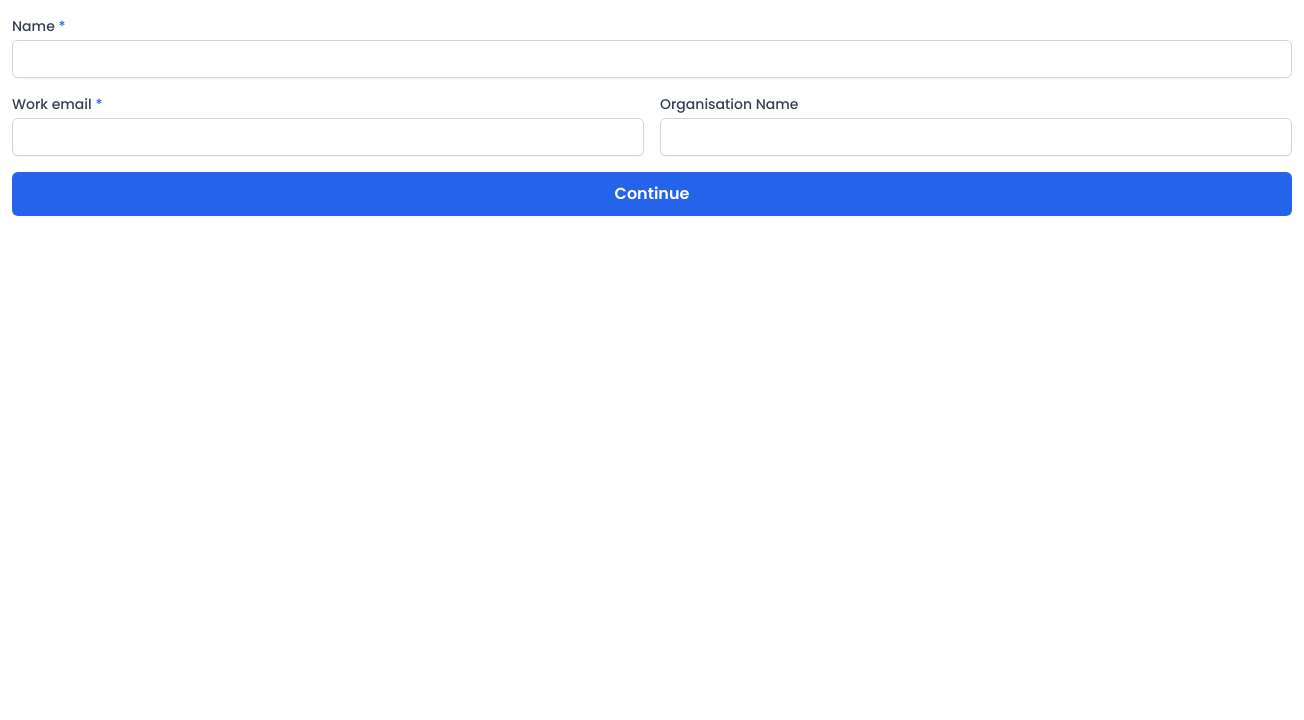
Scenario: LeadCaptureForm › progressive contact form also opens from the Continue button
Click the button "Continue": coordinates (652, 194) [12,172,1292,216]
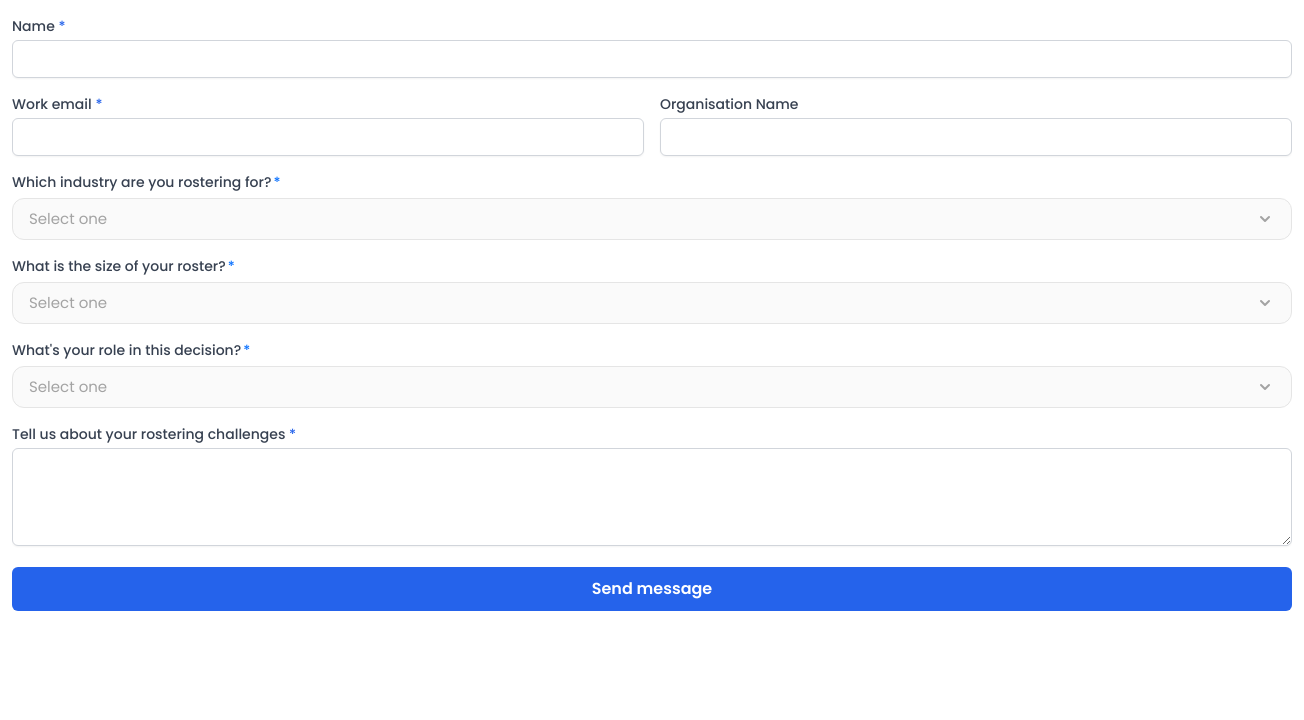
Expected: the text box labelled "Tell us about your rostering challenges *" is shown, [12,448,1292,546]
